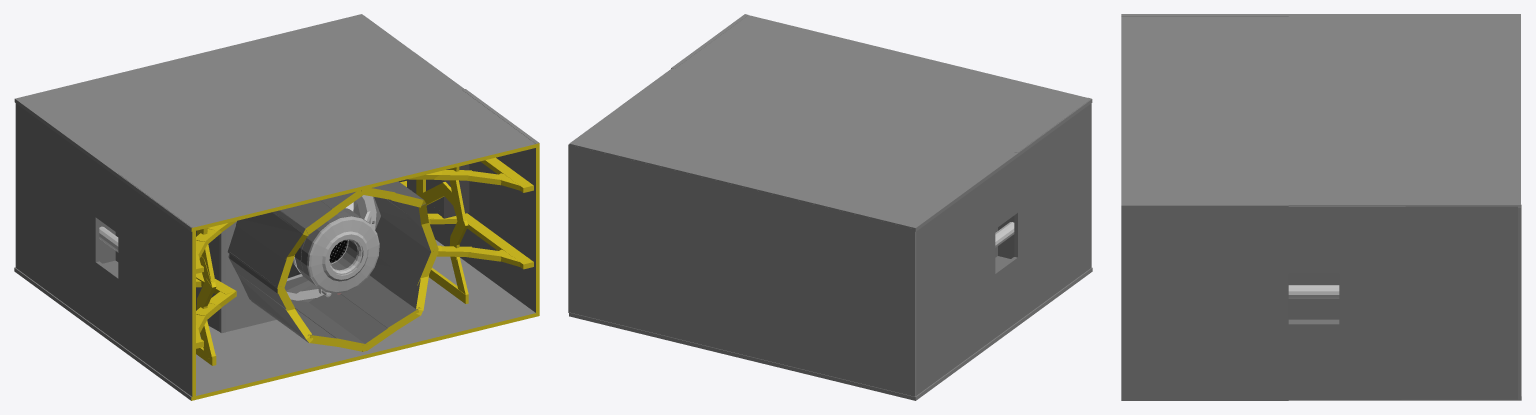
The model's file is dragon.glb.
3 views of the same model, side by side, from view 1: azimuth 30°, elevation 25°; view 2: azimuth 150°, elevation 25°; view 3: azimuth 270°, elevation 25° (orthographic). The views are drawn at different scales.
Parts seen in each view (by area): view 1: New_Game_Object; view 2: New_Game_Object; view 3: New_Game_Object.
Boxes of the visible parts, x1,y1,x2,y2 form: New_Game_Object: (14,14,539,400); New_Game_Object: (568,14,1092,400); New_Game_Object: (1121,14,1521,400).
Bounding box in the file's own units: 5.93 × 2.81 × 5.22.
